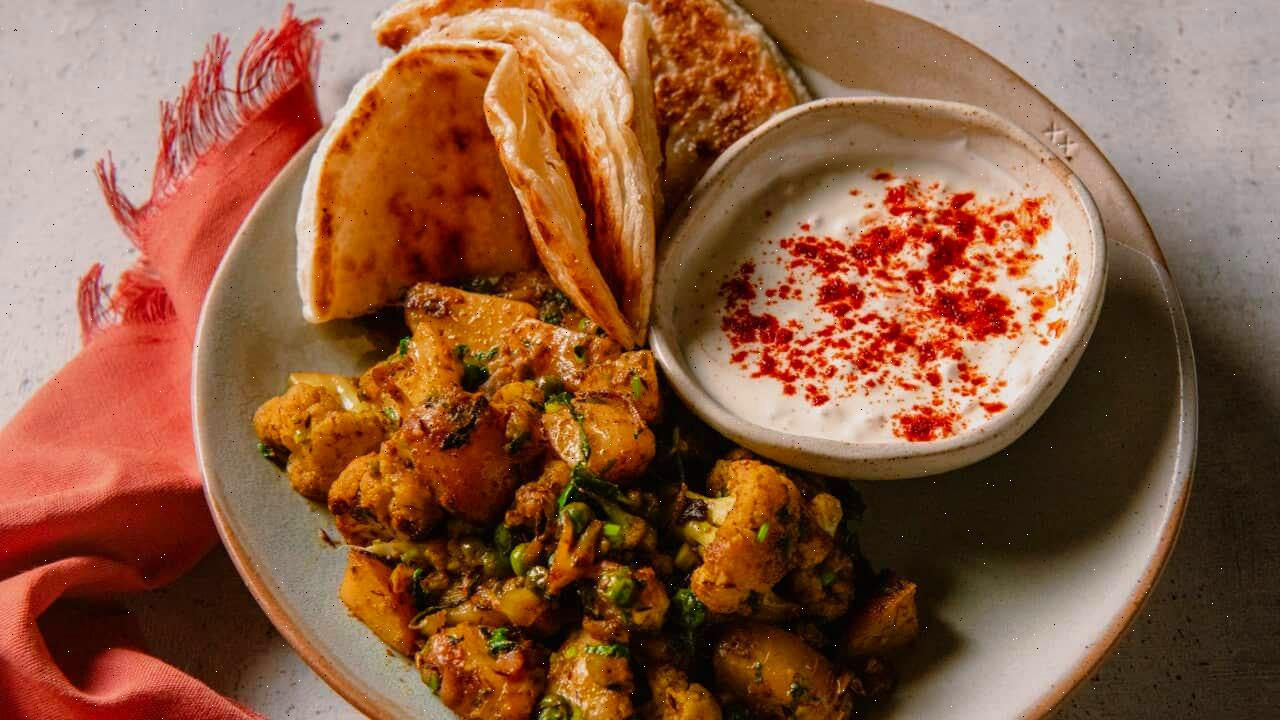aloo gobhi: (257, 288, 666, 720)
yogurt: (684, 146, 1089, 457)
